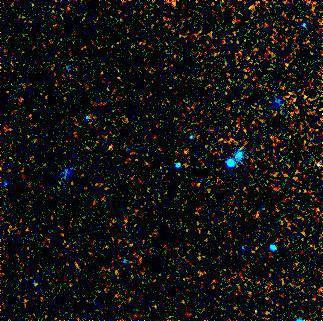star: (94, 131, 124, 161)
